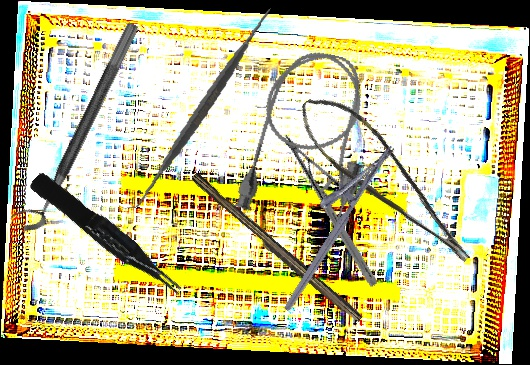Cannula: (230, 40, 390, 248)
Fixation Ring: (6, 12, 142, 239)
Micro Scissor: (288, 77, 477, 291)
Needle Holder: (239, 132, 420, 289), (260, 129, 397, 313)
Scalpel Handle: (186, 172, 366, 326)
Spatula Surgical: (101, 6, 305, 210)
Tissue Forceps: (28, 165, 186, 307)
